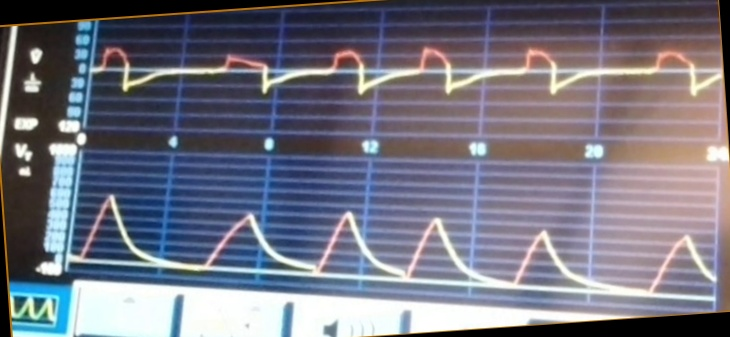Normal Flow: (96, 35, 716, 121)
Normal Volume: (76, 184, 716, 296)
